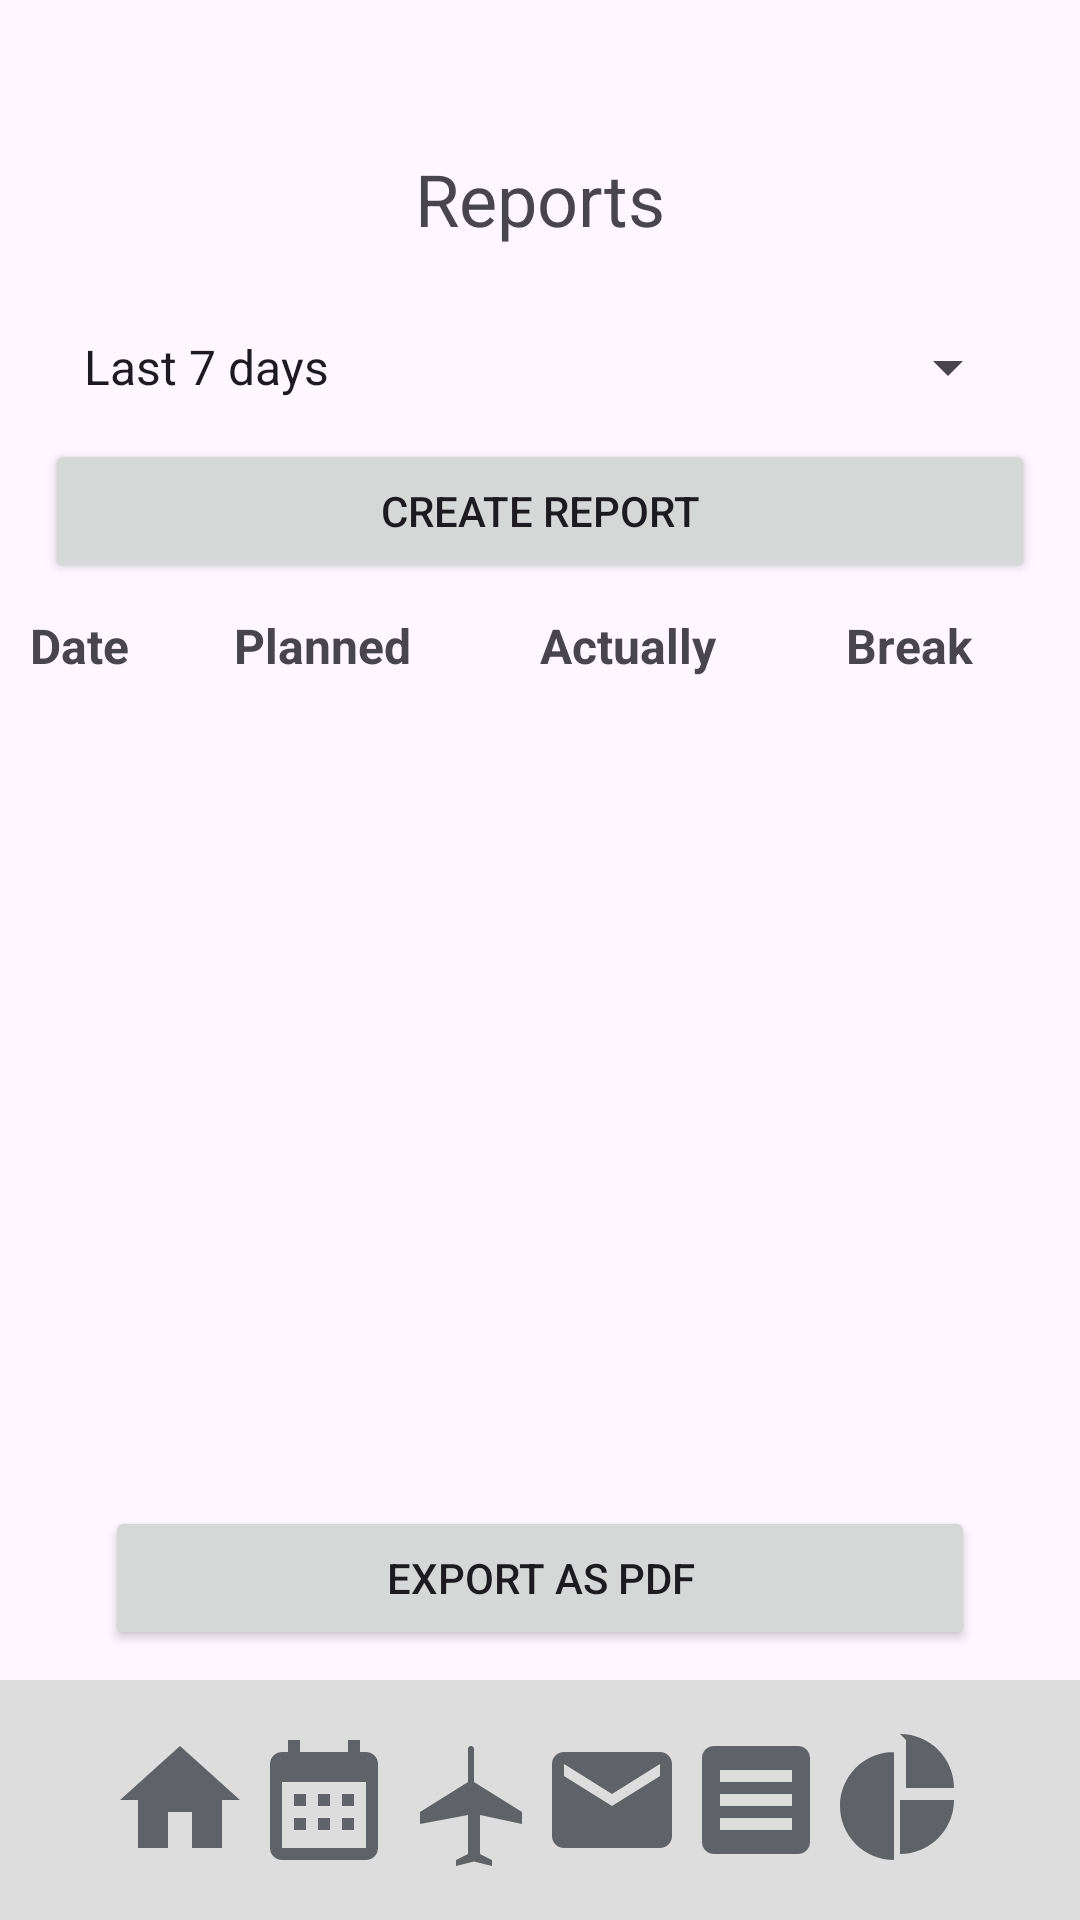

Point at icon controls on the screen. Image size 1080×1920, points as point (x, y).
Absences: point (471, 1806)
Home: point (180, 1797)
Messages: point (612, 1800)
Reports: point (756, 1800)
Statistics: point (897, 1797)
Work Hours: point (324, 1800)
